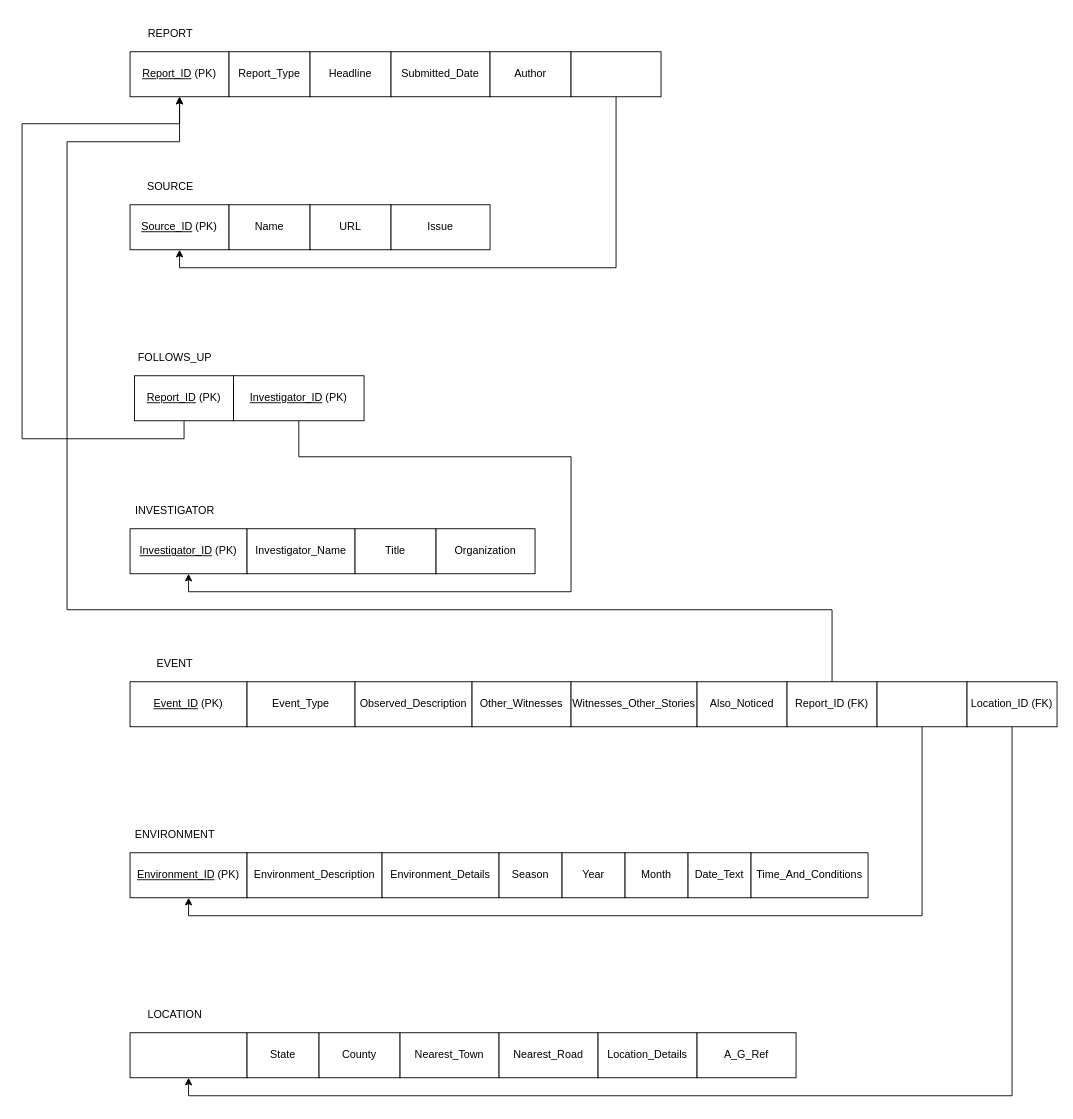
This 1073x1119 diagram has some shape labels left out. Each missing label, with the box of its shape:
Environment_ID (FK): (876, 681, 967, 727)
Location_ID (PK): (129, 1032, 247, 1078)
Source_ID (FK): (570, 51, 661, 97)
